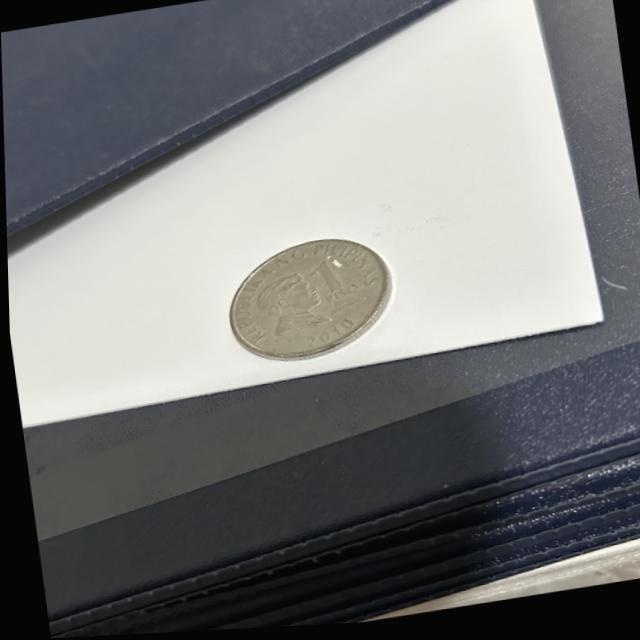1_Old_Front: (305, 256, 362, 316)
